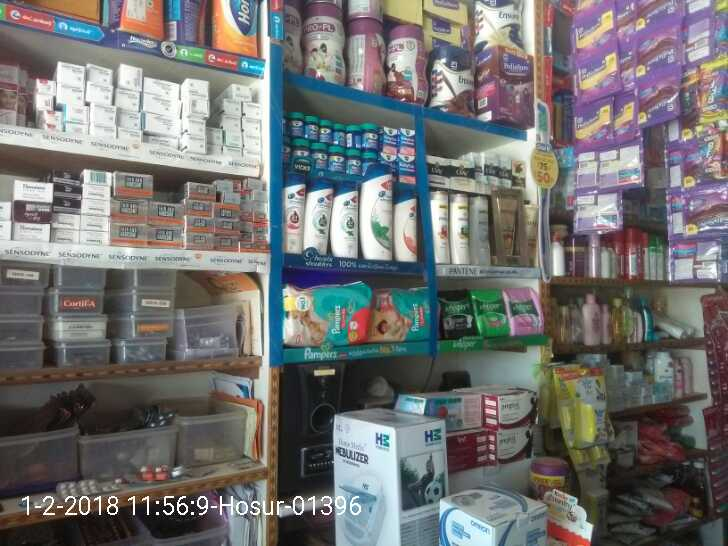vicks: (277, 109, 413, 183)
